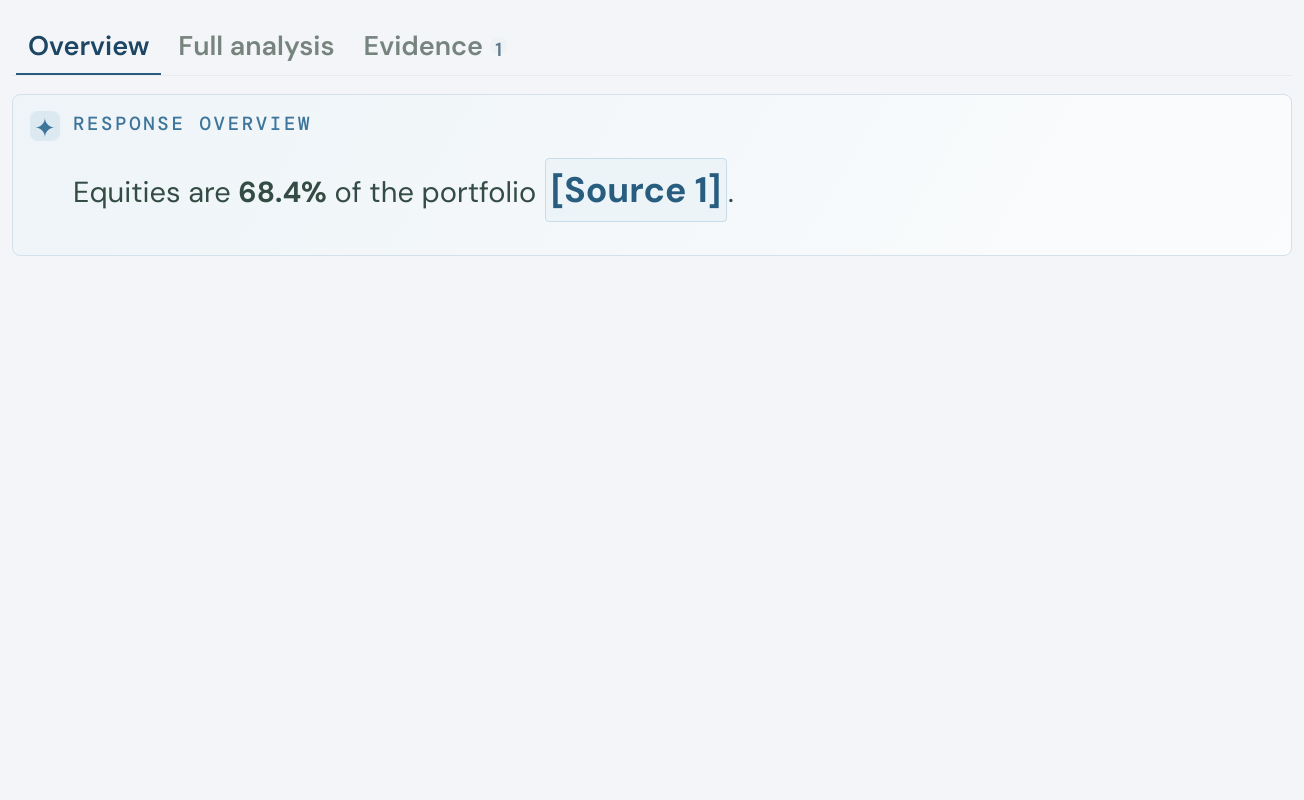
Test: MarkdownAnswerRenderer › formats overview and full analysis while keeping citations connected to evidence
Expected: the button with aria-label "Open Source 1: Portfolio allocation statement" is shown, [545, 158, 727, 222]
Click the button "Full analysis": point(256, 47) [166, 19, 347, 75]
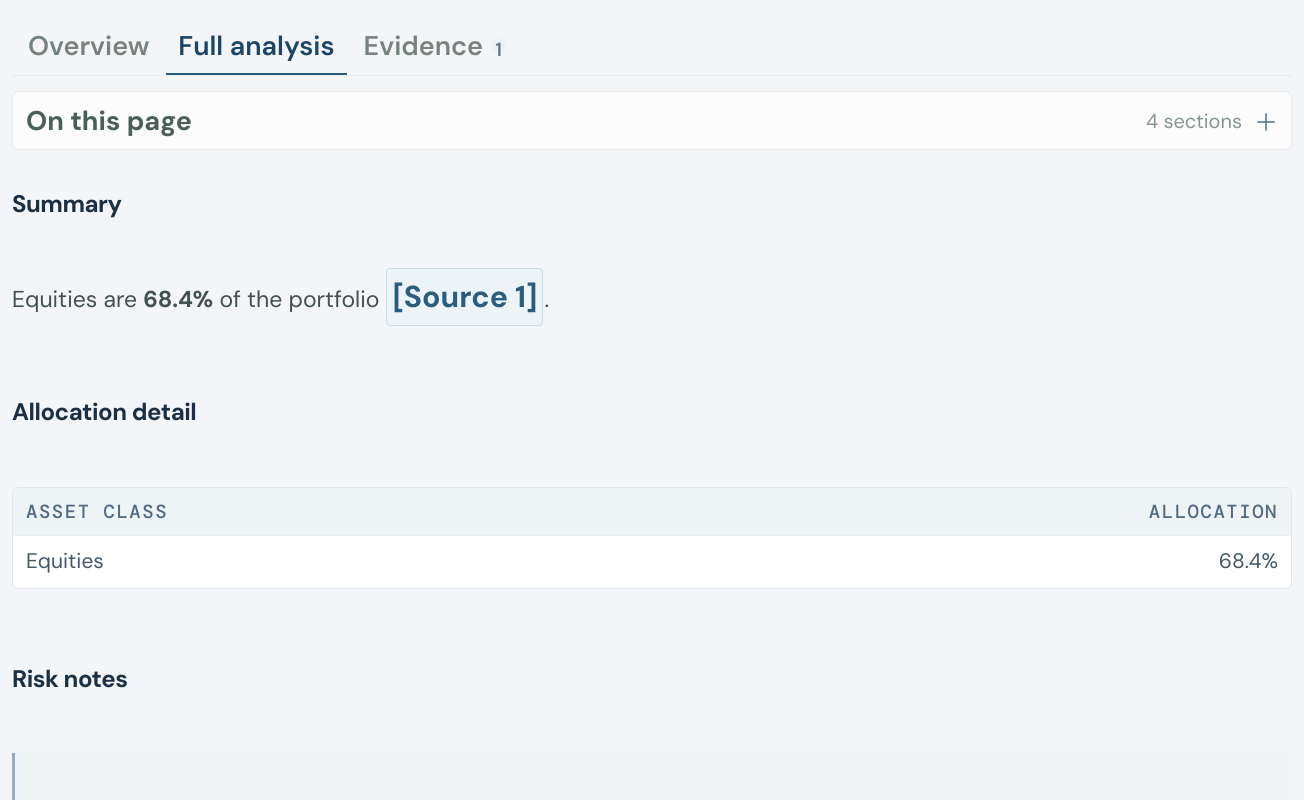
Now the table is shown, box [13, 488, 1291, 588]
Click the button with aria-label "Open Source 1: Portfolio allocation statement": point(465, 297) [386, 268, 543, 326]
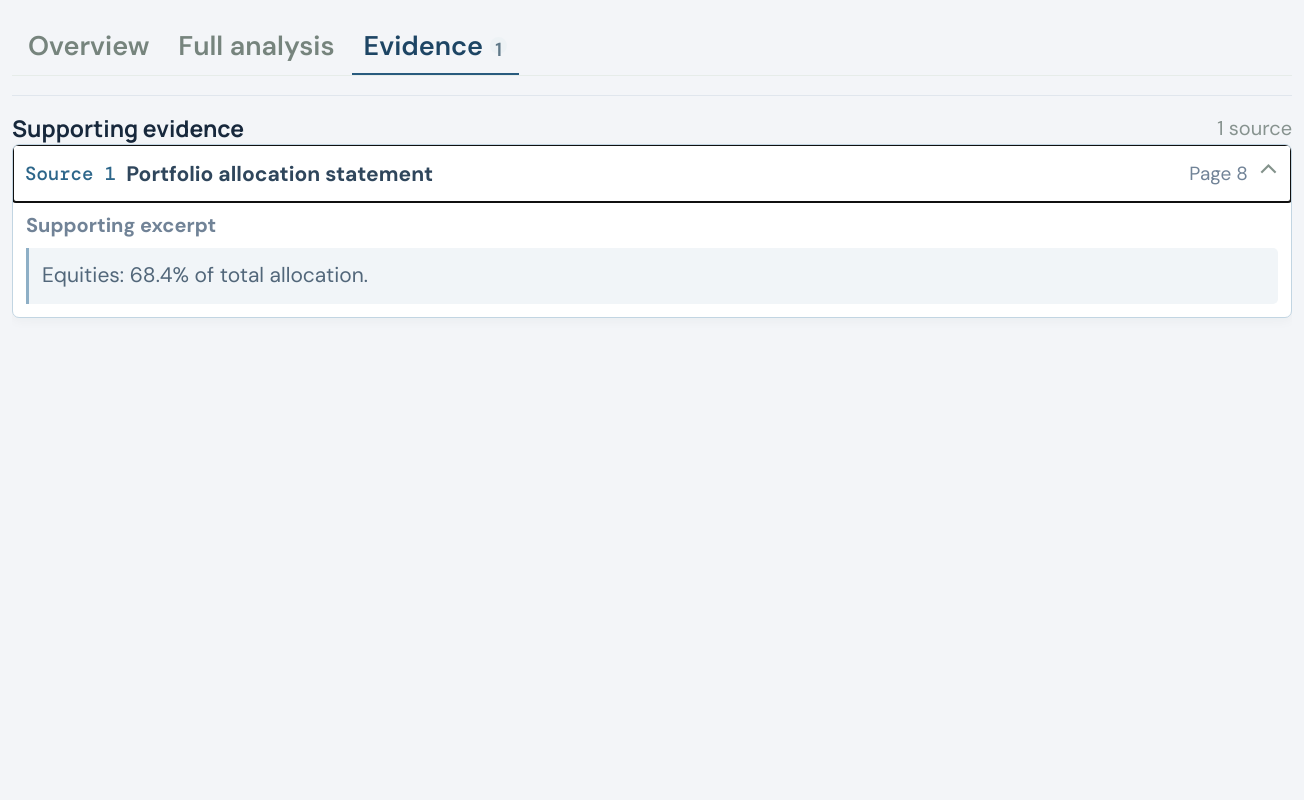
Now the text "Equities: 68.4% of total allocation." is shown, box [26, 248, 1278, 304]
